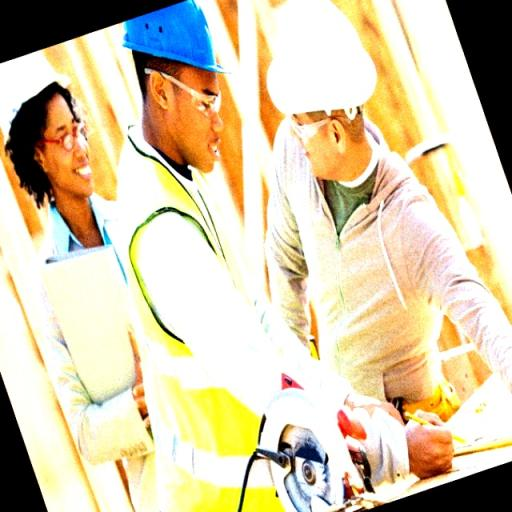Person: (246, 10, 504, 489), (101, 0, 338, 506), (246, 2, 510, 424), (106, 4, 290, 501), (0, 46, 192, 480), (4, 42, 186, 476)
goggles: (141, 64, 233, 120), (284, 118, 351, 154)
helmet: (262, 0, 394, 114), (119, 2, 234, 70), (0, 50, 76, 146)
none: (264, 135, 508, 420), (29, 211, 162, 452), (392, 405, 470, 485)
vest: (108, 134, 295, 508)
